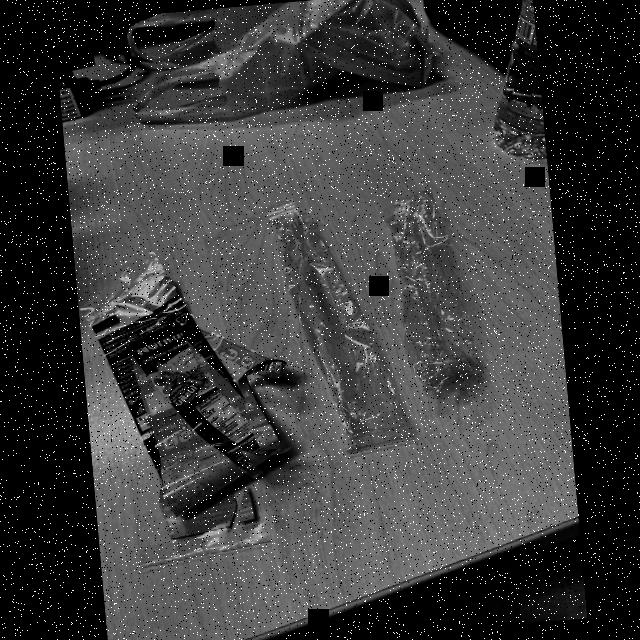scrap_plastic: (74, 242, 307, 554), (259, 185, 419, 458), (370, 182, 487, 415)
